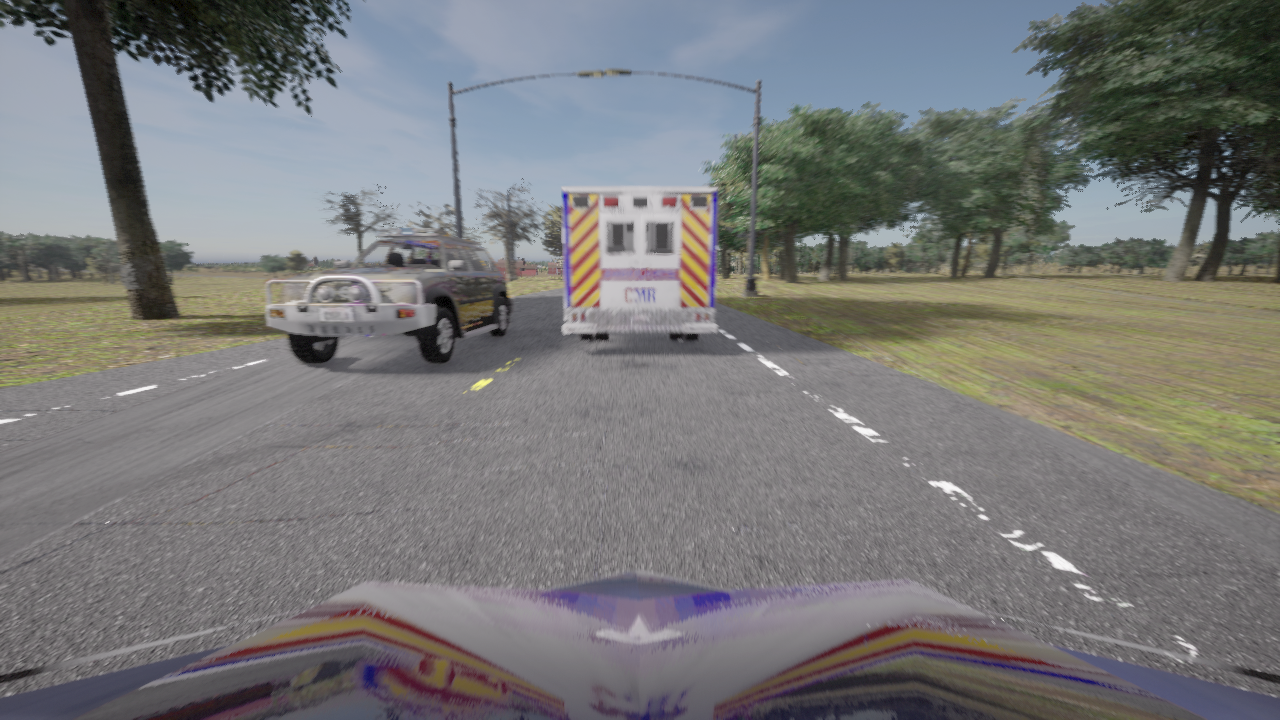cyclist: (0, 570, 1279, 719), (266, 229, 513, 363), (561, 187, 717, 341)
